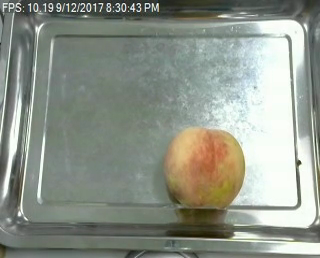Peach: (163, 127, 246, 210)
